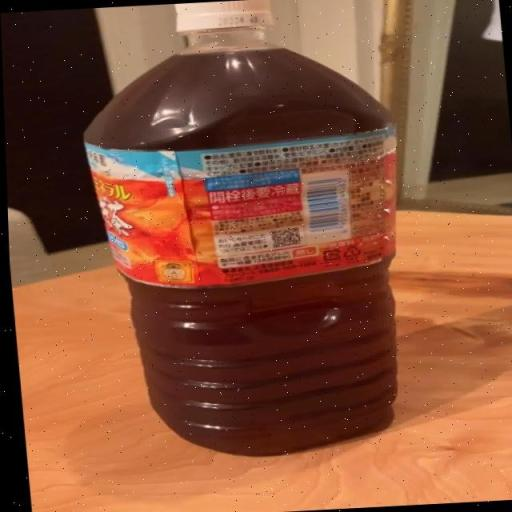plastic: (83, 0, 398, 459)
